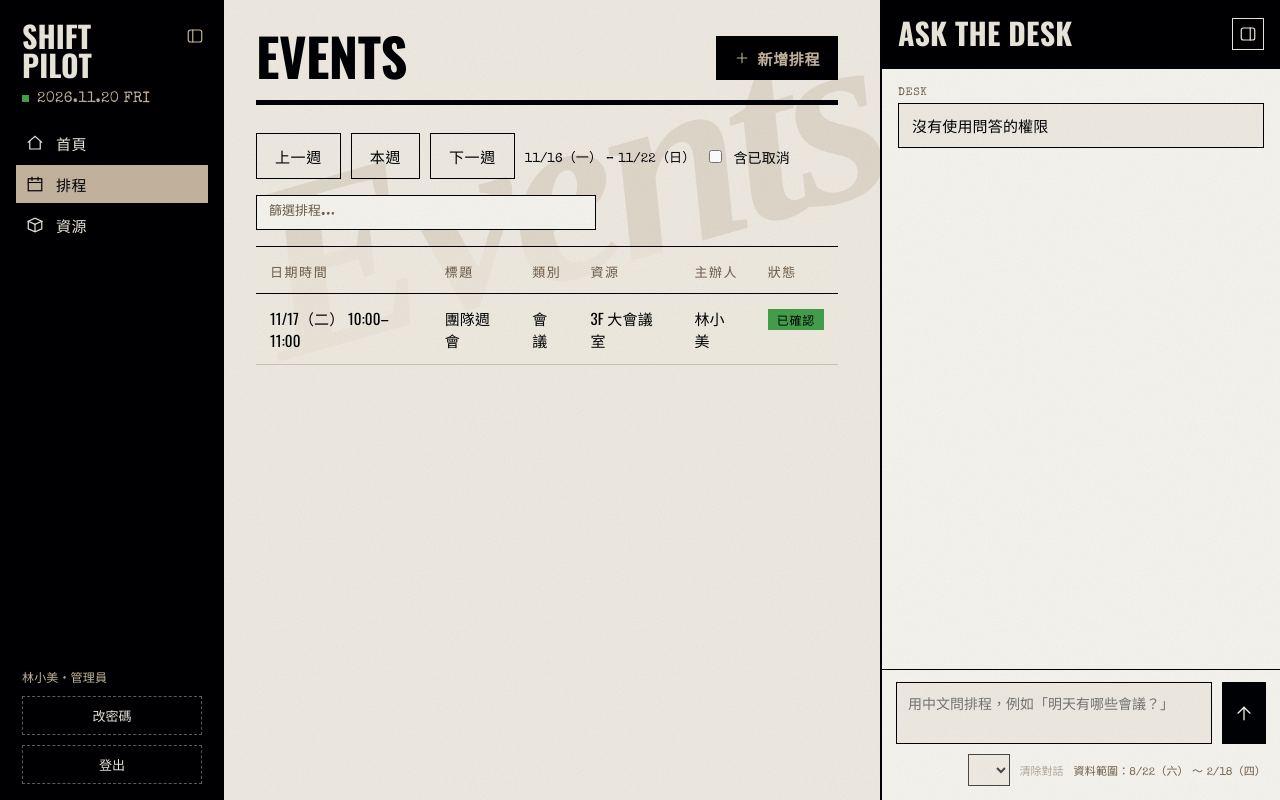
Test case: testCategoryIsDropdownDefaultingToMeeting
Click the button "新增排程" at {"x": 777, "y": 58}, box [716,36,838,80]
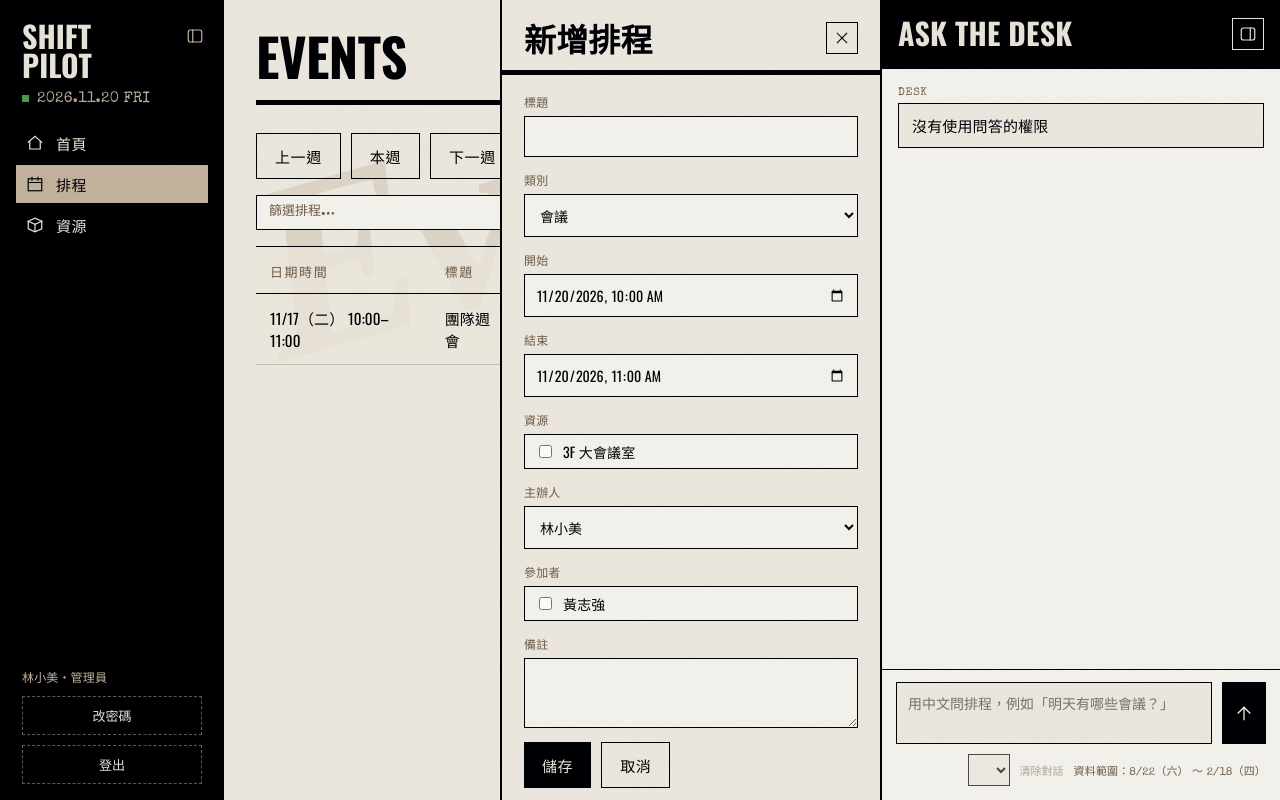
Expected: the dropdown labelled "類別" shows "會議", [524,194,858,237]
